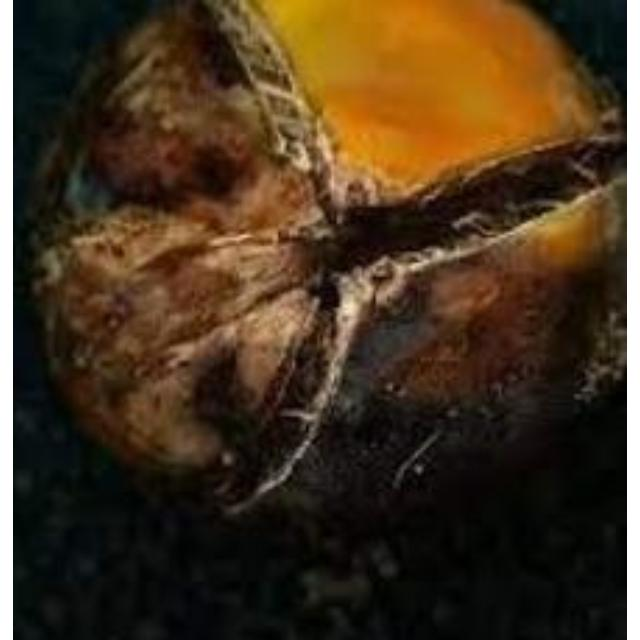damaged: (33, 0, 625, 548)
